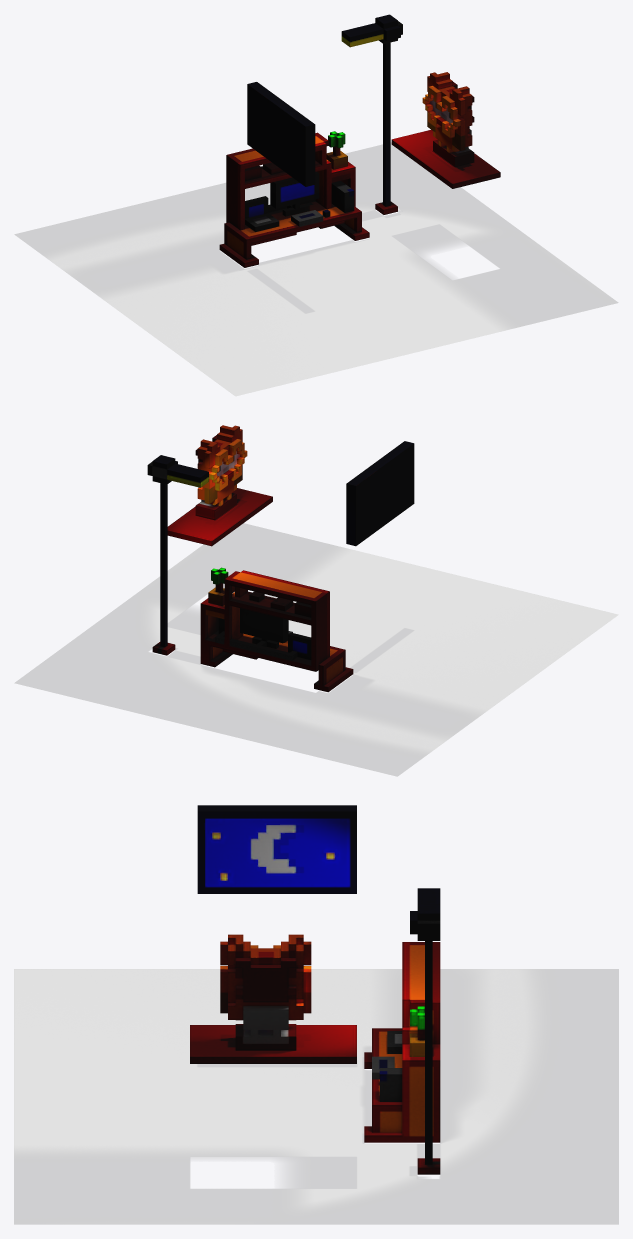
The model's file is owl-baked.glb.
The picture shows the model from 3 angles, top to bottom: view 1: azimuth 30°, elevation 25°; view 2: azimuth 150°, elevation 25°; view 3: azimuth 270°, elevation 25°; orthographic projection. The views are drawn at different scales.
Visible parts, largest first — view 1: Plane, chr-owl-room; view 2: Plane, chr-owl-room; view 3: Plane, chr-owl-room.
Boxes of the visible parts, x1,y1,x2,y2 form: Plane: [14, 142, 618, 396]; chr-owl-room: [219, 14, 500, 267]; Plane: [14, 523, 618, 776]; chr-owl-room: [147, 425, 414, 692]; Plane: [14, 969, 618, 1224]; chr-owl-room: [190, 805, 440, 1174].
Bounding box in the file's own units: 7.98 × 3.82 × 7.98.
2 materials, 2 textured.
